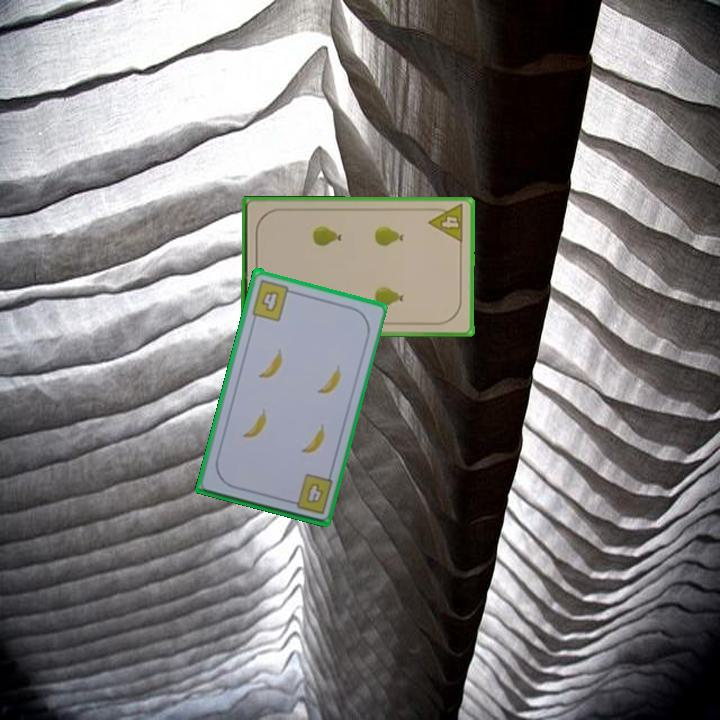4b: (248, 275, 298, 323), (302, 479, 326, 506)
4p: (425, 201, 467, 245)
